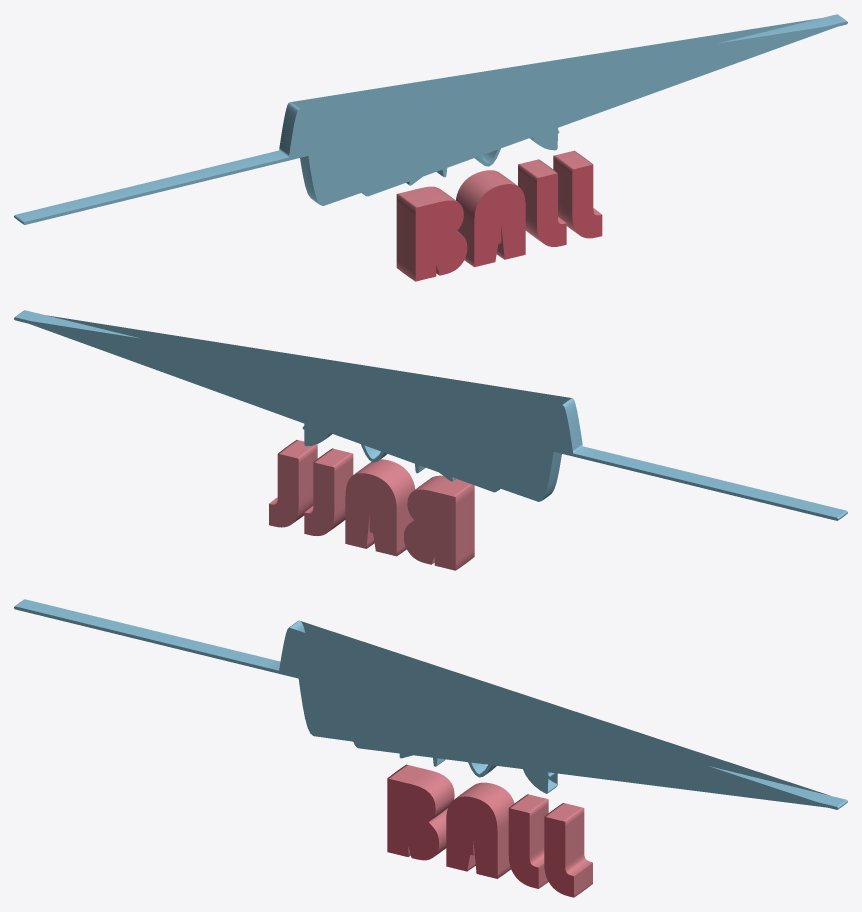
The model's file is Title.fbx.
3 views of the same model, one above another, from view 1: azimuth 30°, elevation 25°; view 2: azimuth 150°, elevation 25°; view 3: azimuth 330°, elevation 25° (orthographic).
Visible parts, largest first — view 1: polySurface2, polySurface6, polySurface5; view 2: polySurface2, polySurface6, polySurface5; view 3: polySurface2, polySurface6, polySurface5.
Part boxes in pixels (left/top/right/bottom): polySurface2: left=14, top=14, right=847, bottom=224; polySurface6: left=396, top=150, right=602, bottom=281; polySurface5: left=529, top=105, right=559, bottom=150; polySurface2: left=14, top=310, right=847, bottom=520; polySurface6: left=269, top=440, right=474, bottom=570; polySurface5: left=302, top=403, right=331, bottom=446; polySurface2: left=14, top=599, right=847, bottom=809; polySurface6: left=387, top=764, right=592, bottom=897; polySurface5: left=523, top=749, right=557, bottom=793.
Size of the model in its own units: 550 by 122 by 21.9.
